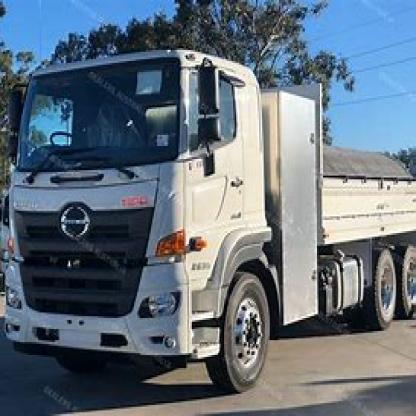dump_truck: (9, 42, 415, 394)
